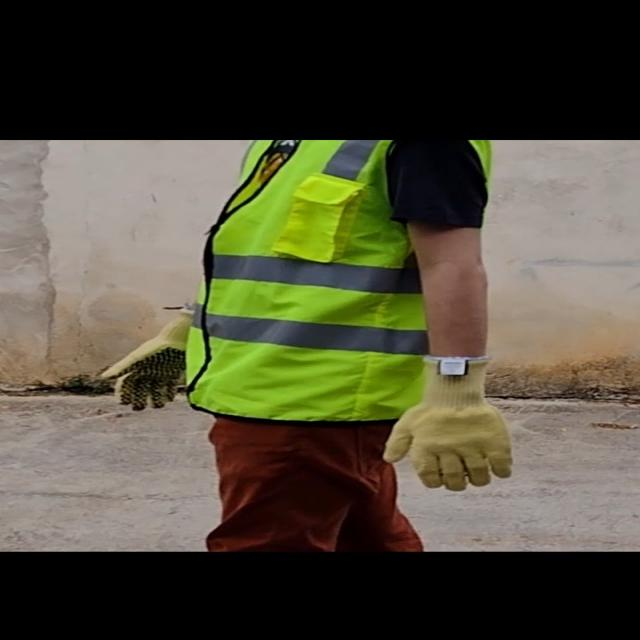glove: (372, 351, 517, 491), (92, 304, 225, 414)
pants: (208, 418, 442, 548)
vest: (184, 142, 505, 420)
